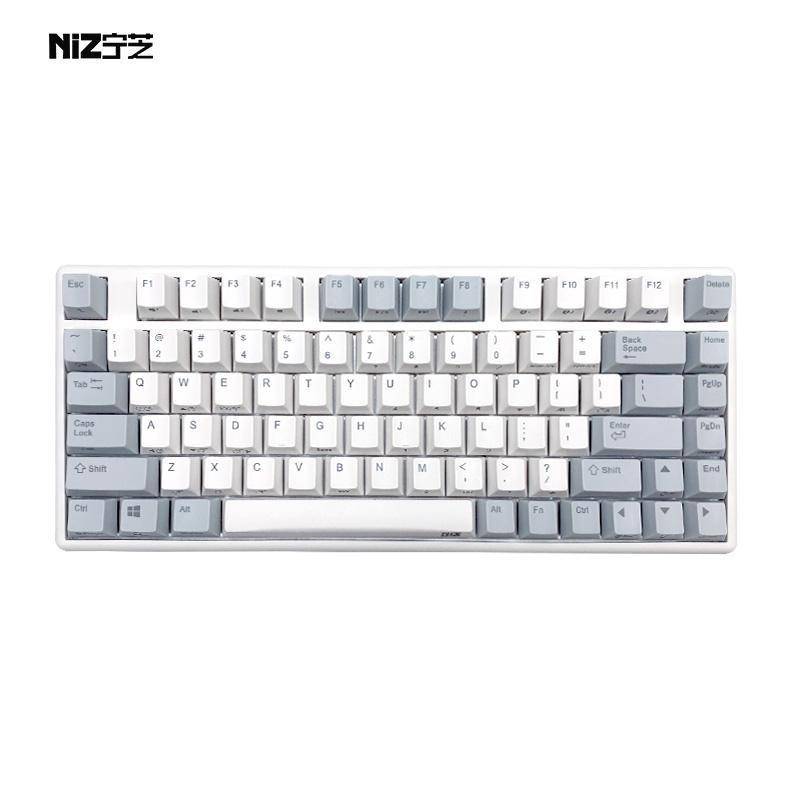keyboard: (25, 230, 761, 567)
